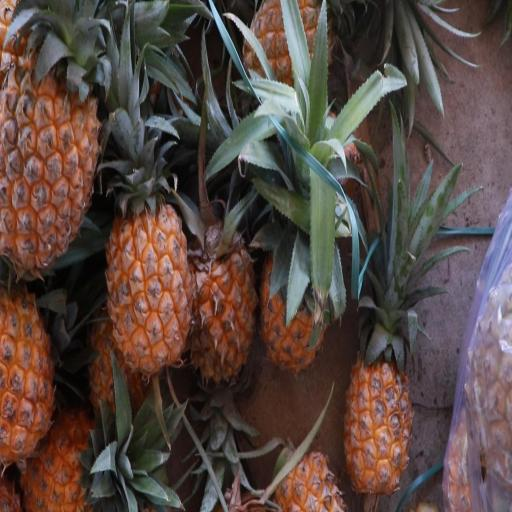Pineapple - v8 v1: (0, 18, 113, 275), (104, 179, 194, 381), (0, 279, 77, 466), (188, 192, 260, 389), (18, 412, 156, 512), (239, 0, 347, 126), (340, 318, 415, 498), (258, 208, 333, 383)
